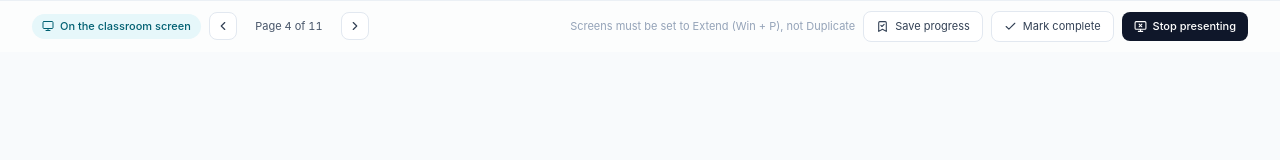
Test: saving from the presenting bar with no connection › keeps the page she stopped at, and says it will sync
Click the button "Save progress": (923, 26) [863,11,983,42]
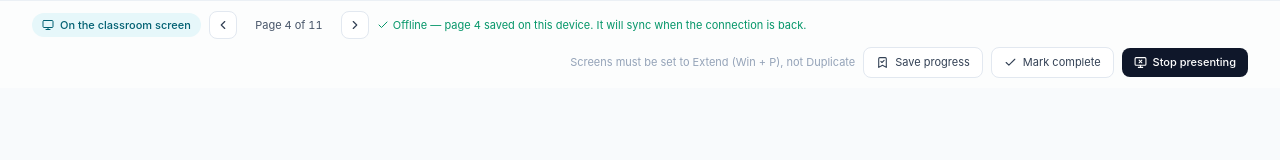
Check: the text "page 4 saved on this device" is shown, box [393,18,806,32]
